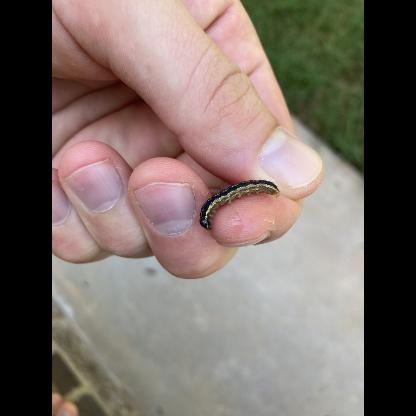Fall Armyworm Larvae: (198, 176, 284, 234)
